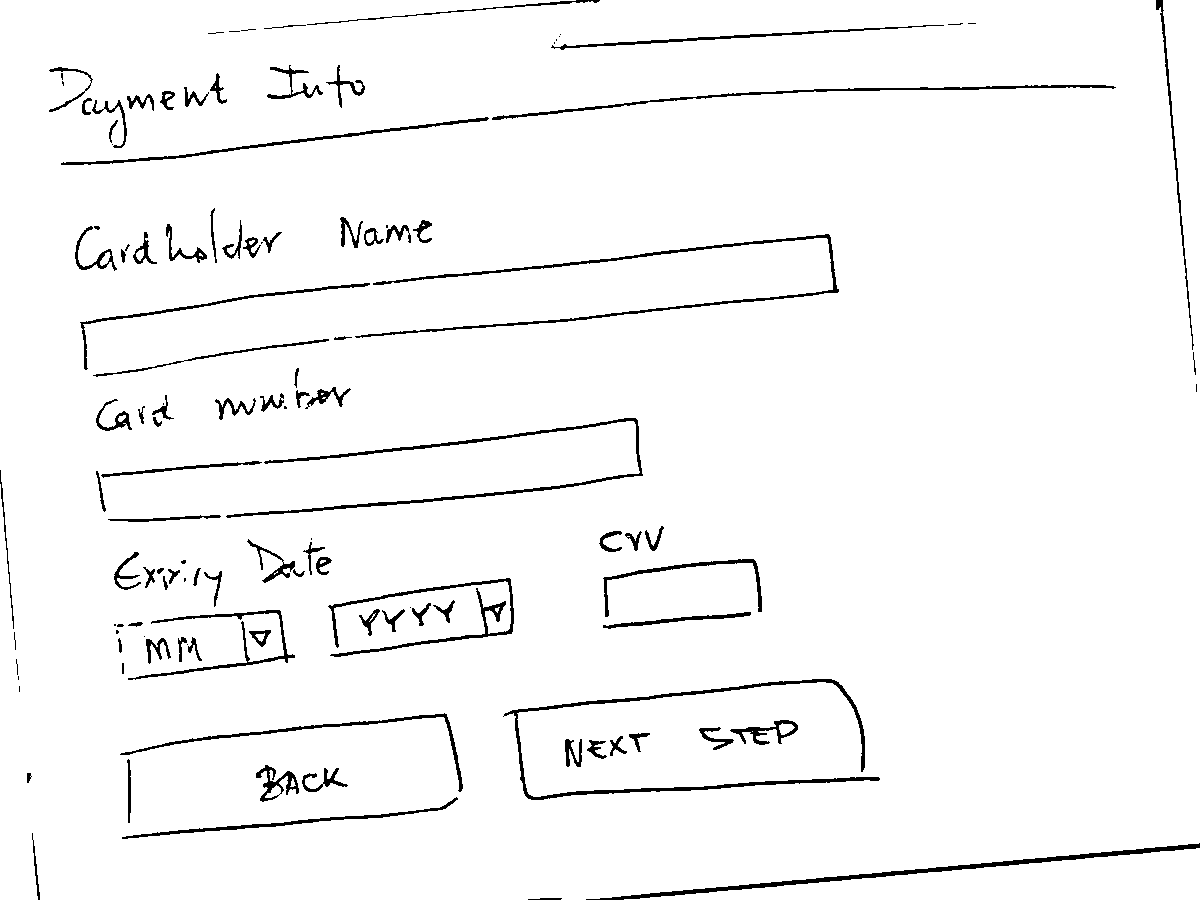Button: (501, 672, 882, 806), (120, 710, 464, 842)
Textbox: (94, 412, 644, 525)
